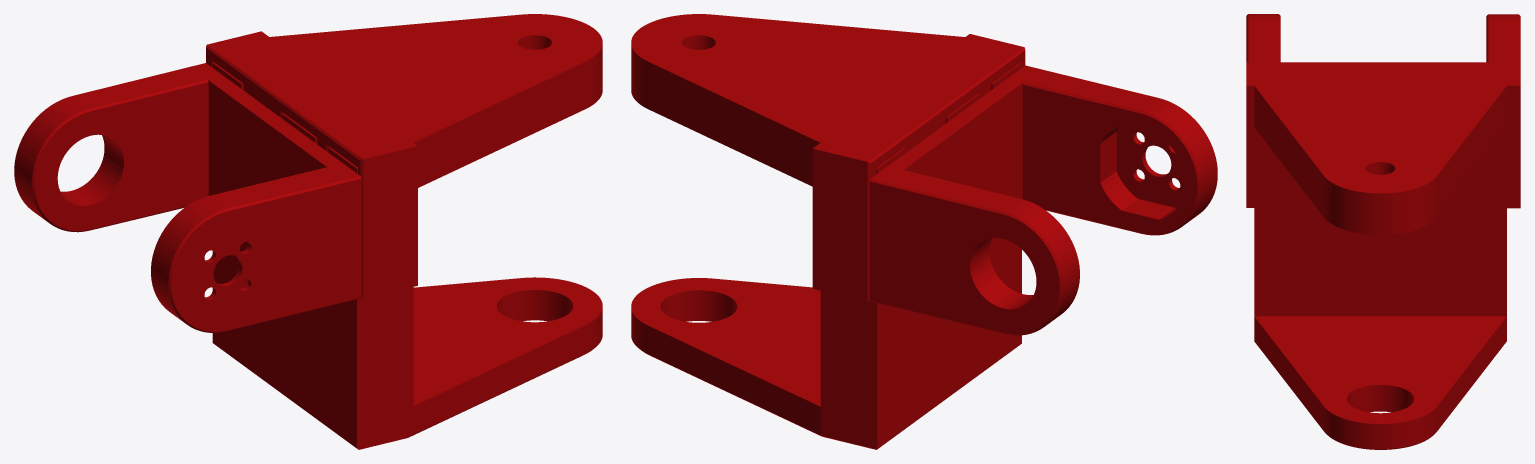
The model's file is palm_link11.dae.
3 views of the same model, side by side, from view 1: azimuth 30°, elevation 25°; view 2: azimuth 150°, elevation 25°; view 3: azimuth 270°, elevation 25° (orthographic). The views are drawn at different scales.
Visible parts, largest first — view 1: palm_link11; view 2: palm_link11; view 3: palm_link11.
Boxes of the visible parts, box(x1,y1,x2,y2) form: palm_link11: box(14, 14, 602, 449); palm_link11: box(631, 14, 1217, 449); palm_link11: box(1246, 14, 1520, 449).
Size of the model in its own units: 86.06 by 46.6 by 48.25.
1 material, 1 textured.
